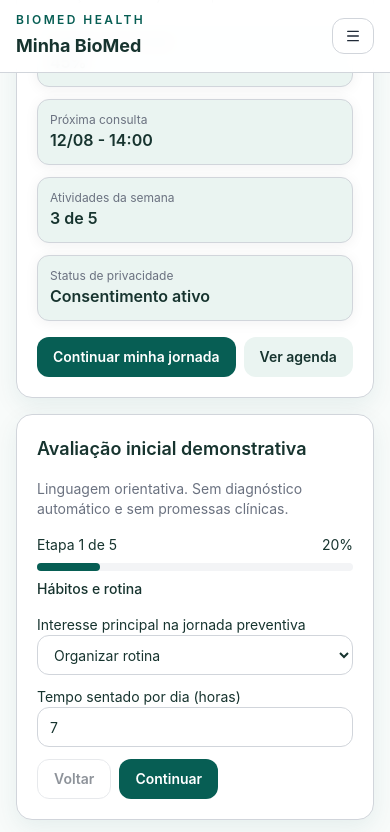
it: refinamentos de UX nos ambientes › avança avaliação inicial por etapas
The width and height of the screenshot is (390, 832).
(page scrolled)
Expected: the text "Hábitos e rotina" is shown, [37,580,142,597]
Click the button "Continuar": (169, 779) [119,759,218,799]
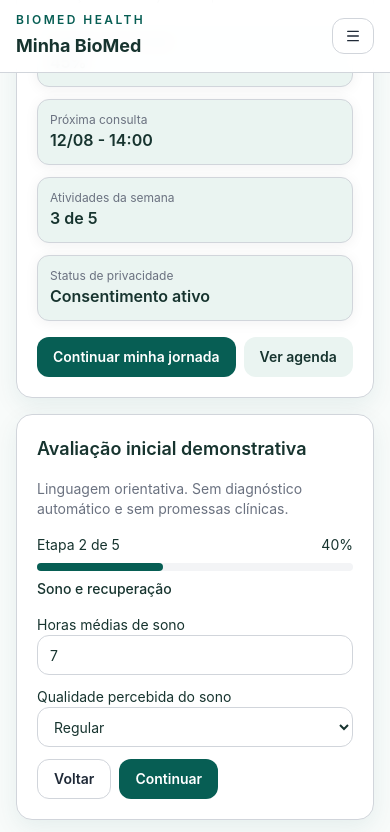
Click the button "Continuar": (169, 779) [119,759,218,799]
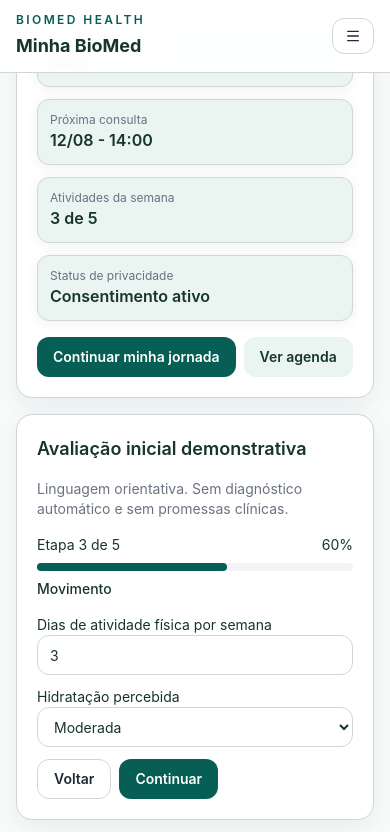
Click the button "Continuar": (169, 779) [119,759,218,799]
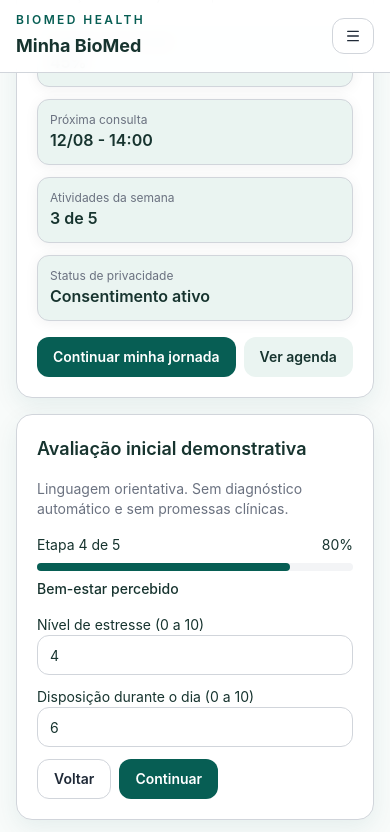
Click the button "Continuar": (169, 779) [119,759,218,799]
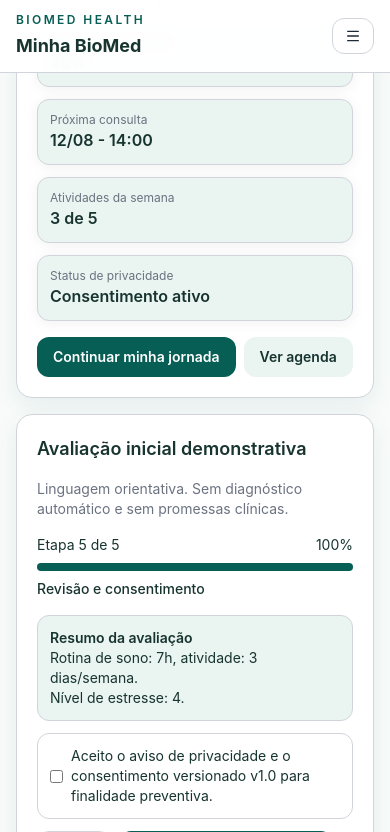
Result: the text "Revisão e consentimento" is shown at [37,580,205,597]
